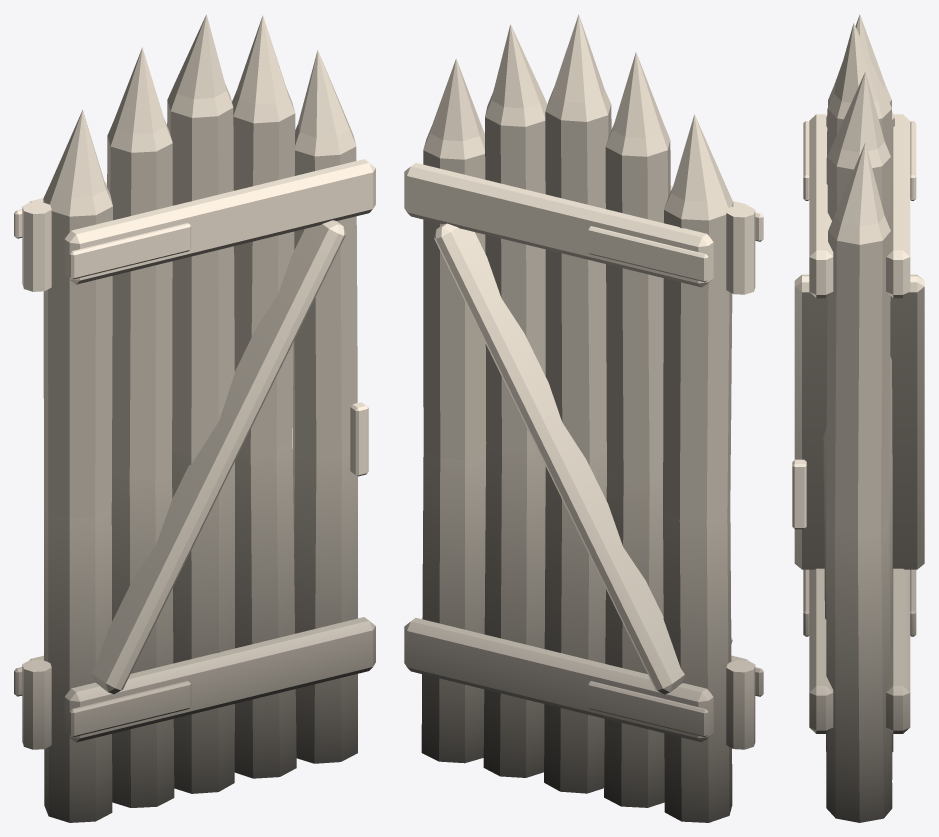
Rendered from SM_VK_Palisade_GateLeaf.fbx.
3 renders of one model, left to right at view 1: azimuth 30°, elevation 25°; view 2: azimuth 150°, elevation 25°; view 3: azimuth 270°, elevation 25°, orthographic. The views are drawn at different scales.
Visible parts, largest first — view 1: SM_VK_Palisade_GateLeaf.001; view 2: SM_VK_Palisade_GateLeaf.001; view 3: SM_VK_Palisade_GateLeaf.001.
Part boxes in pixels (x1,y1,x2,y2): SM_VK_Palisade_GateLeaf.001: (14, 14, 375, 822); SM_VK_Palisade_GateLeaf.001: (404, 14, 763, 822); SM_VK_Palisade_GateLeaf.001: (792, 14, 924, 822).
Bounding box in the file's own units: 1.51 × 3.35 × 0.55.
